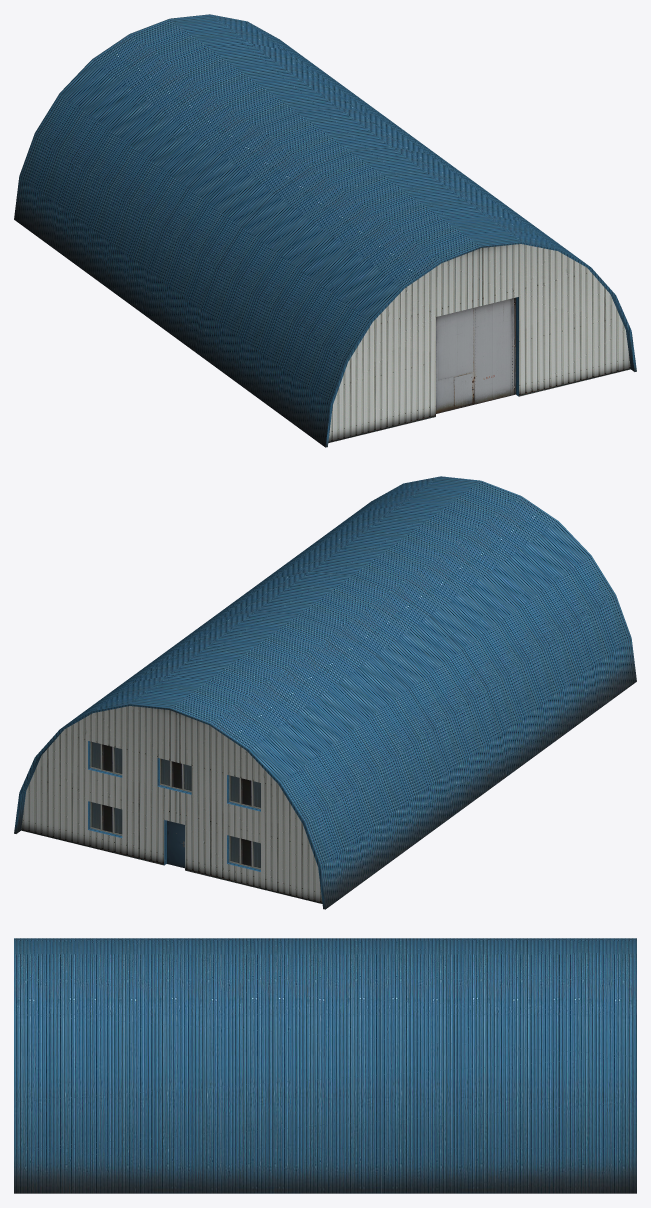
File: Hangar.fbx
3 renders of one model, top to bottom at view 1: azimuth 30°, elevation 25°; view 2: azimuth 150°, elevation 25°; view 3: azimuth 270°, elevation 25°, orthographic.
Visible parts, largest first — view 1: Cylinder001; view 2: Cylinder001; view 3: Cylinder001.
Boxes of the visible parts, bbox=[...] form: Cylinder001: bbox=[14, 14, 636, 447]; Cylinder001: bbox=[14, 476, 636, 909]; Cylinder001: bbox=[14, 938, 636, 1193].
Bounding box in the file's own units: 15.01 × 7.5 × 26.
1 material, 1 textured.
